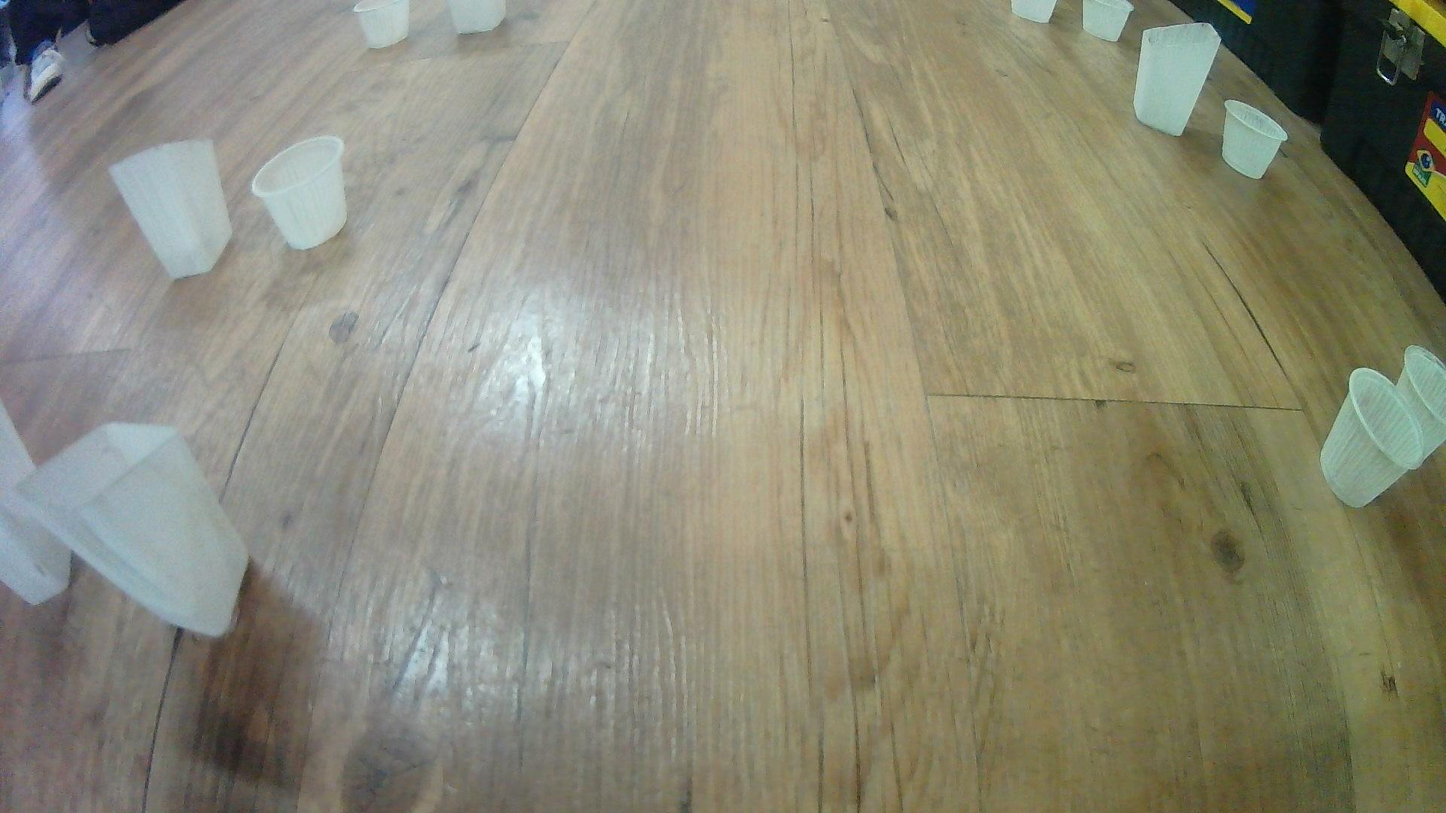erva_daninha: (17, 419, 252, 640), (108, 137, 232, 282), (0, 399, 74, 608), (1133, 22, 1223, 138), (444, 0, 508, 35)
planta: (1318, 368, 1426, 510), (252, 135, 347, 251), (1220, 99, 1288, 181), (1397, 345, 1446, 453), (353, 0, 410, 50), (1079, 0, 1134, 42), (1007, 0, 1058, 24)
